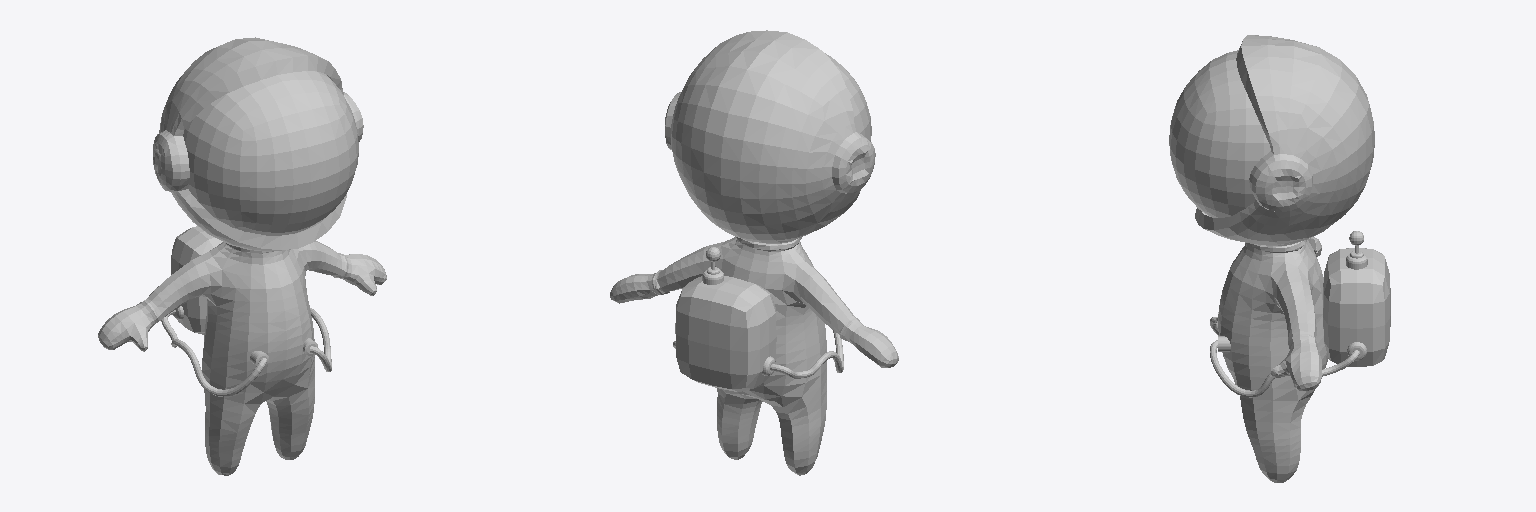
File: Astronaut.obj
3 views of the same model, side by side, from view 1: azimuth 30°, elevation 25°; view 2: azimuth 150°, elevation 25°; view 3: azimuth 270°, elevation 25° (orthographic).
Parts seen in each view (by area): view 1: Astronauts Astronaut_Cartoon; view 2: Astronauts Astronaut_Cartoon; view 3: Astronauts Astronaut_Cartoon.
Part boxes in pixels (left/top/right/bottom): Astronauts Astronaut_Cartoon: left=98, top=37, right=386, bottom=475; Astronauts Astronaut_Cartoon: left=610, top=30, right=898, bottom=475; Astronauts Astronaut_Cartoon: left=1169, top=35, right=1390, bottom=482.
Size of the model in its own units: 9.42 by 13.44 by 6.42.